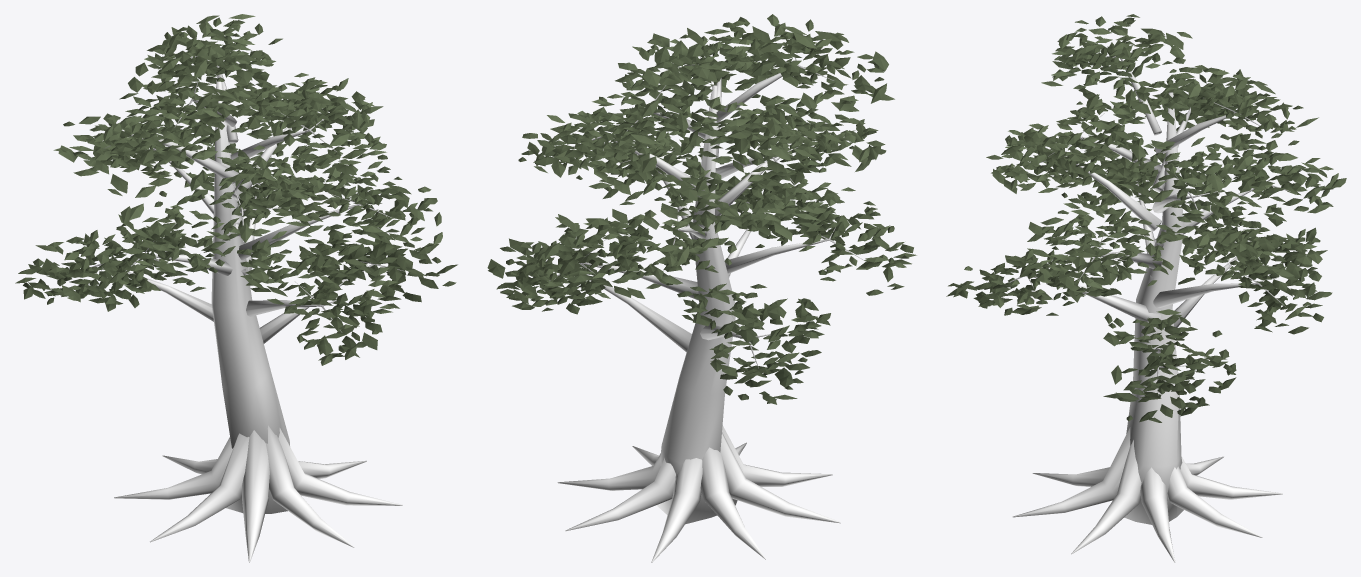
The model's file is forest-tree-0-v3.glb.
The picture shows the model from 3 angles, left to right: view 1: azimuth 30°, elevation 25°; view 2: azimuth 150°, elevation 25°; view 3: azimuth 270°, elevation 25°; orthographic projection. The views are drawn at different scales.
Parts seen in each view (by area): view 1: Folded canopy leaves, forest-atlas-surface; view 2: Folded canopy leaves, forest-atlas-surface; view 3: Folded canopy leaves, forest-atlas-surface.
Part boxes in pixels (<box>): Folded canopy leaves: <box>15,14,457,365</box>; forest-atlas-surface: <box>91,52,404,562</box>; Folded canopy leaves: <box>487,14,916,404</box>; forest-atlas-surface: <box>549,57,862,562</box>; Folded canopy leaves: <box>946,14,1346,422</box>; forest-atlas-surface: <box>1009,53,1290,562</box>.
Bounding box in the file's own units: 8.41 × 9.64 × 7.7.
